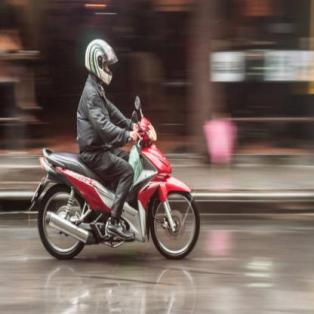Motocicleta: (27, 101, 202, 264)
